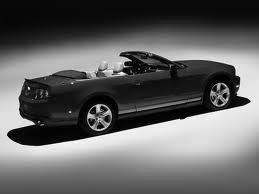car: (18, 50, 243, 138)
